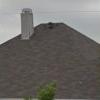Chimney: (12, 4, 44, 42)
